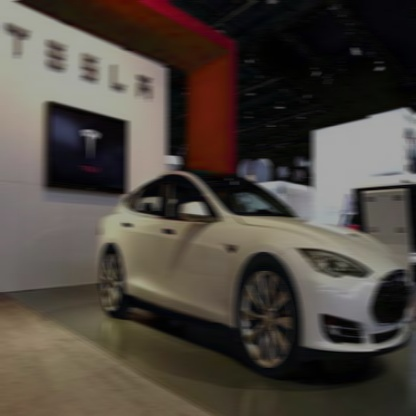Vehicle: (97, 168, 411, 378)
